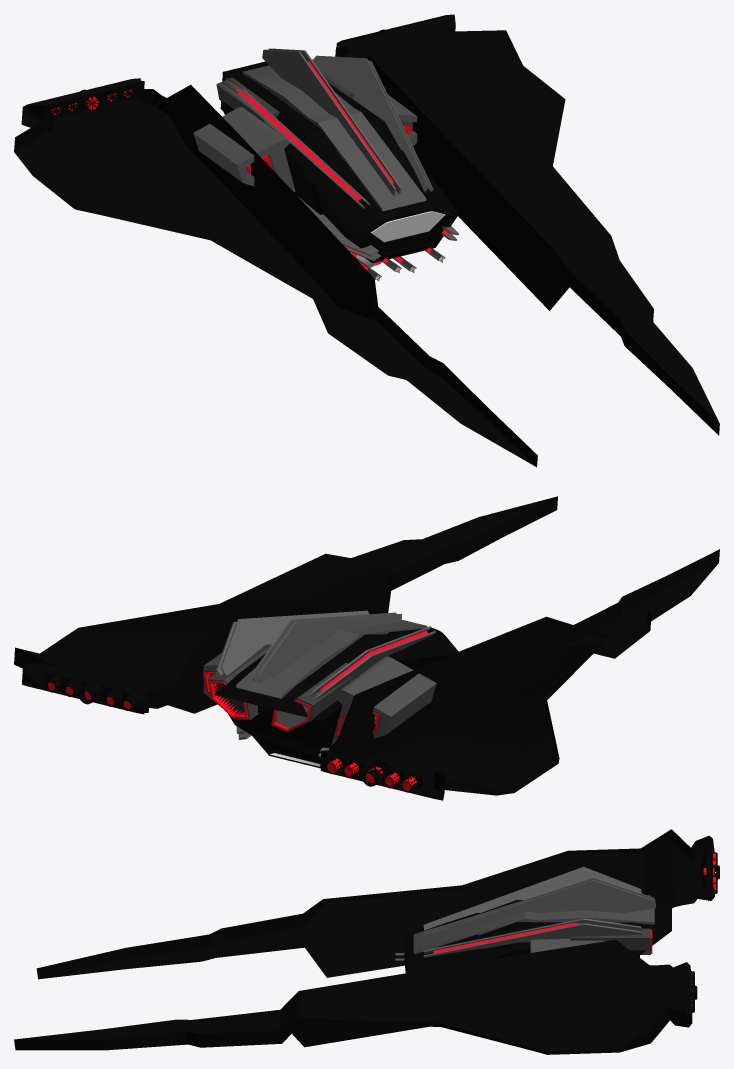
The model's file is Sodka_Amelia_2 (1).fbx.
3 renders of one model, top to bottom at view 1: azimuth 30°, elevation 25°; view 2: azimuth 150°, elevation 25°; view 3: azimuth 270°, elevation 25°, orthographic. The views are drawn at different scales.
Visible parts, largest first — view 1: Cube.027; view 2: Cube.027; view 3: Cube.027.
Part boxes in pixels (<box>): Cube.027: <box>14,14,719,467</box>; Cube.027: <box>14,496,719,800</box>; Cube.027: <box>14,829,719,1054</box>.
Bounding box in the file's own units: 5760 × 2021 × 8549.
